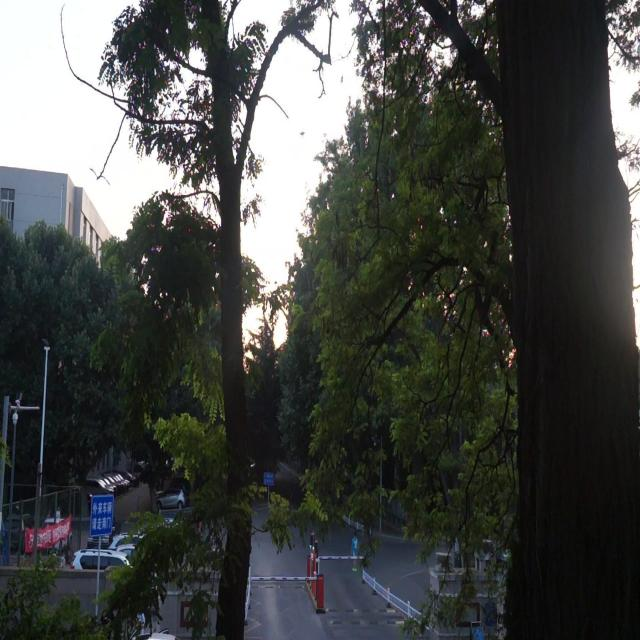UAV: (299, 132, 305, 138)
